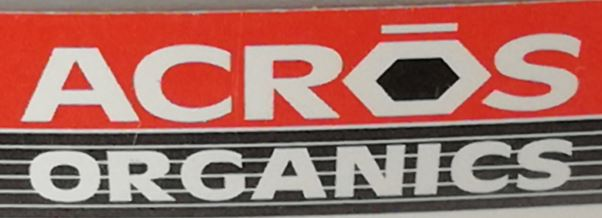AcrosOrganics: (19, 21, 586, 209)
